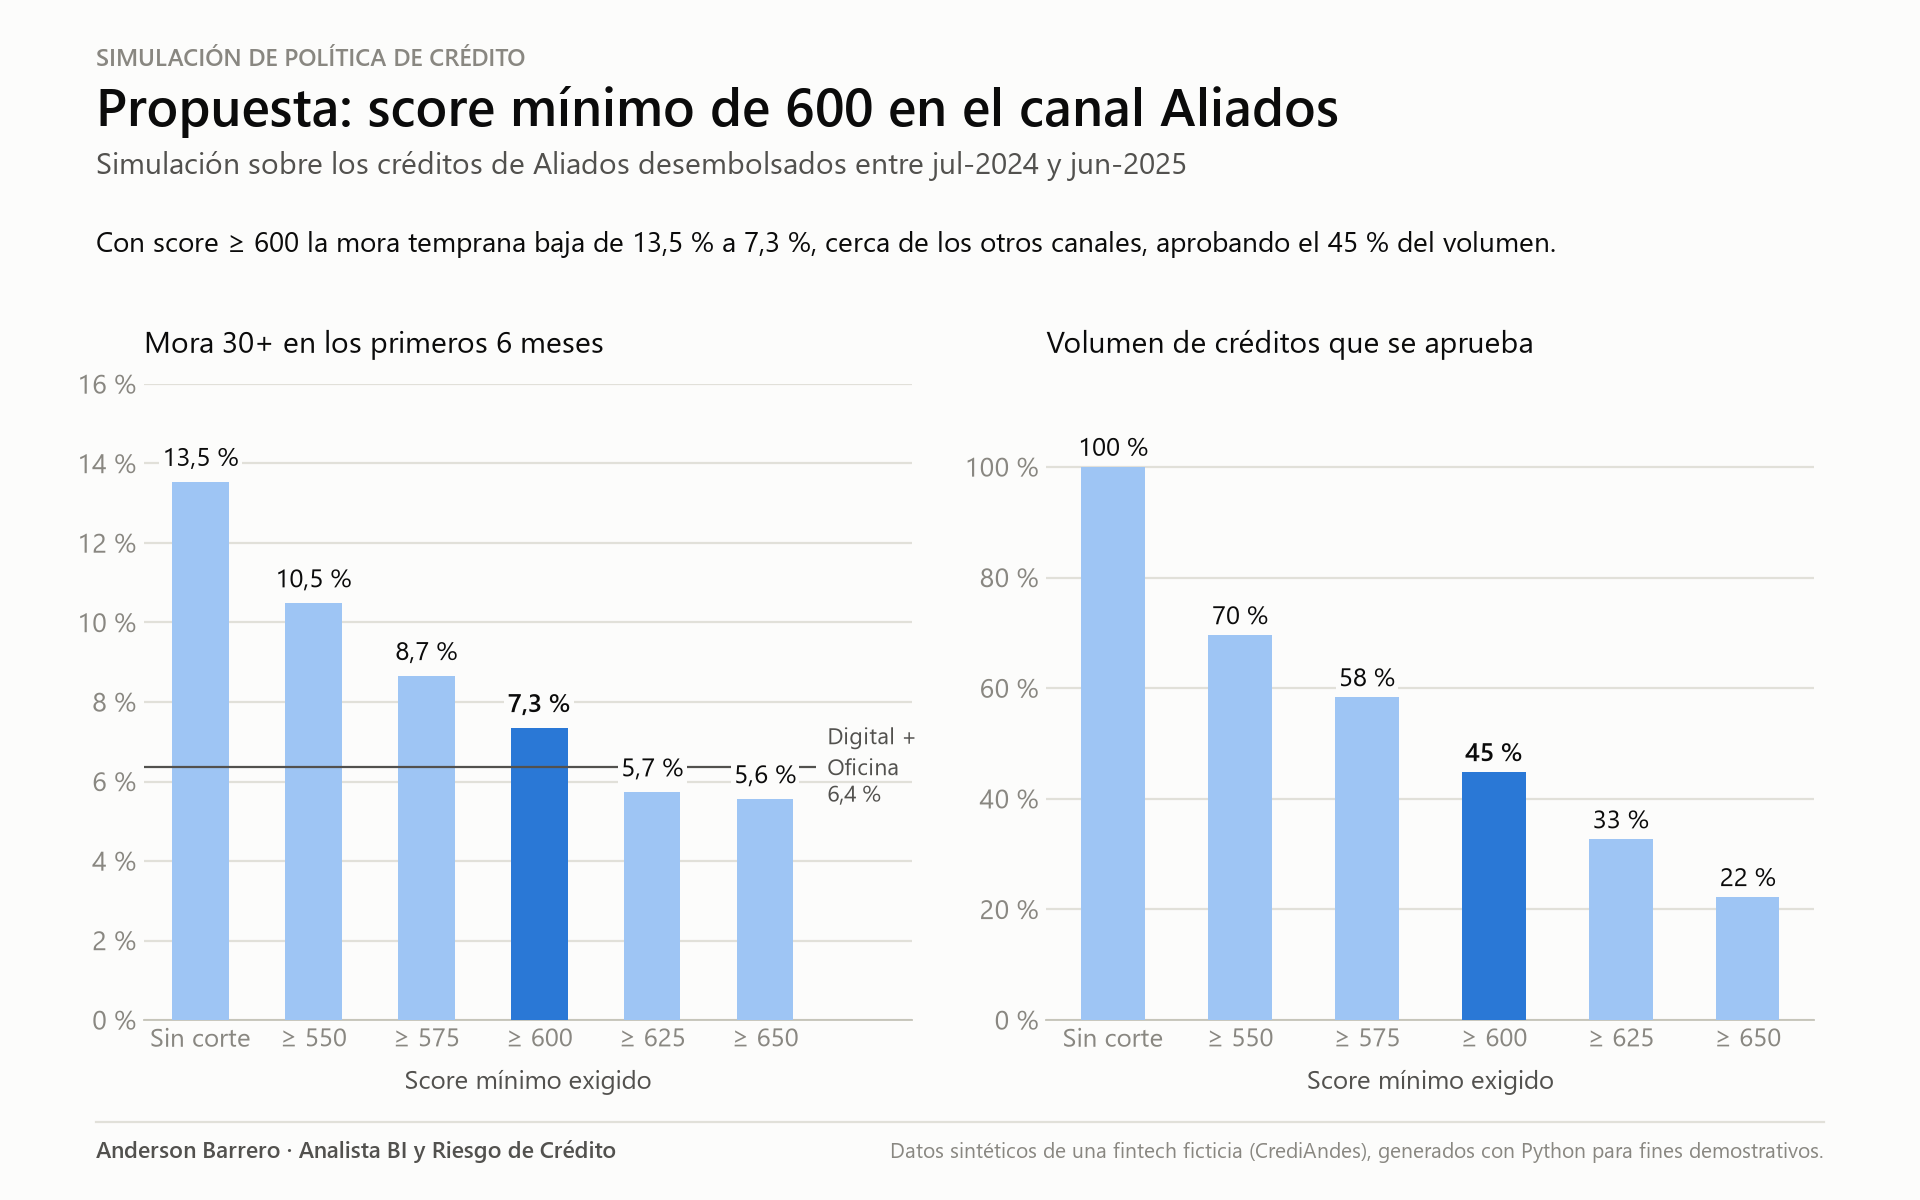

The dashboard page shown, as its layout file describes it:
{"tool":"powerbi","page":{"name":"Simulación","canvas":[1280,720],"ordinal":4},"visuals":[{"type":"textbox","box":[20,8,1240,64],"z":0},{"type":"clusteredColumnChart","title":"Mora 30+ en los primeros 6 meses","fields":{"Category":["simulacion.Score mínimo"],"Y":["Medidas.Mora 30+ 6 meses (simulada)"]},"box":[20,80,615,620],"z":1000},{"type":"clusteredColumnChart","title":"Volumen de créditos que se aprueba","fields":{"Category":["simulacion.Score mínimo"],"Y":["Medidas.Volumen aprobado (simulado)"]},"box":[645,80,615,620],"z":2000}]}

Visuals, with their boxes on the page's 1280x720 design canvas (x1, y1, x2, y2). These are canvas units, not pixel positions in the 1920x1200 screenshot, which may show the page scaled, cropped or inside an application window:
textbox: bbox(20, 8, 1260, 72)
"Mora 30+ en los primeros 6 meses" clusteredColumnChart: bbox(20, 80, 635, 700)
"Volumen de créditos que se aprueba" clusteredColumnChart: bbox(645, 80, 1260, 700)
